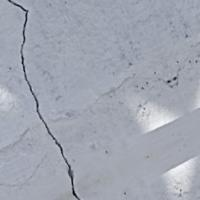crack: (4, 0, 86, 199)
